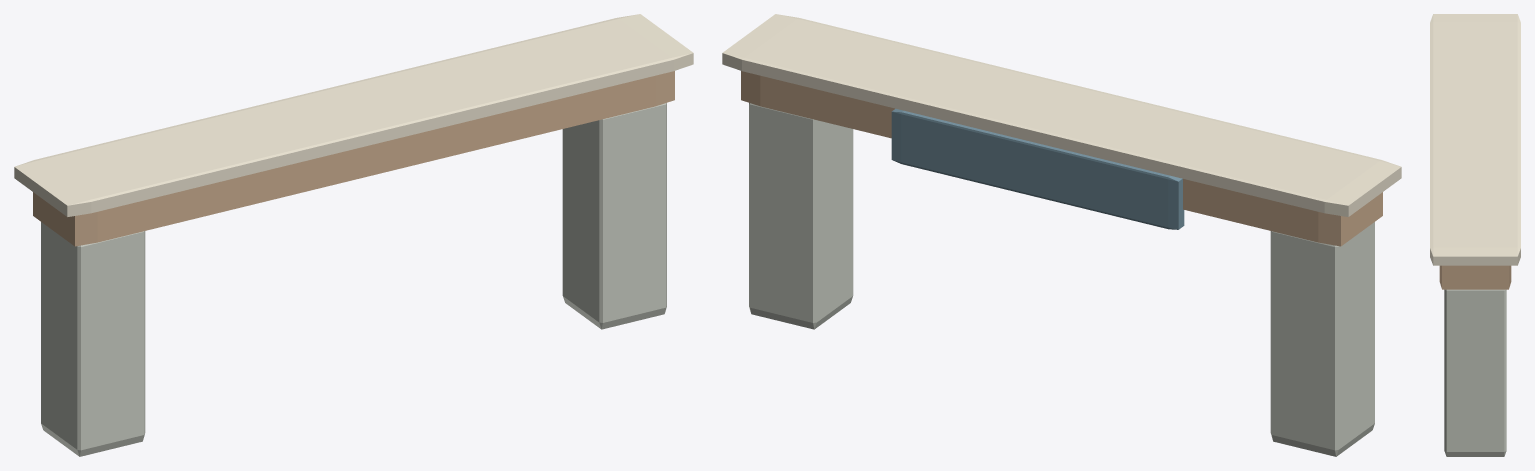
3 views of the same model, side by side, from view 1: azimuth 30°, elevation 25°; view 2: azimuth 150°, elevation 25°; view 3: azimuth 270°, elevation 25° (orthographic). The views are drawn at different scales.
Parts seen in each view (by area): view 1: cap, left_pier, right_pier, arch_beam; view 2: cap, left_pier, right_pier, sign, arch_beam; view 3: cap, right_pier, arch_beam.
Boxes of the visible parts, x1,y1,x2,y2 form: cap: (14, 14, 693, 216); left_pier: (41, 222, 145, 456); right_pier: (562, 103, 666, 329); arch_beam: (33, 71, 674, 246); cap: (722, 14, 1401, 216); left_pier: (1270, 222, 1374, 456); right_pier: (749, 103, 853, 329); sign: (891, 108, 1184, 229); arch_beam: (741, 71, 1382, 246); cap: (1430, 14, 1520, 265); right_pier: (1444, 289, 1506, 456); arch_beam: (1439, 265, 1511, 289).
Size of the model in its own units: 24 by 9.62 by 3.8.
